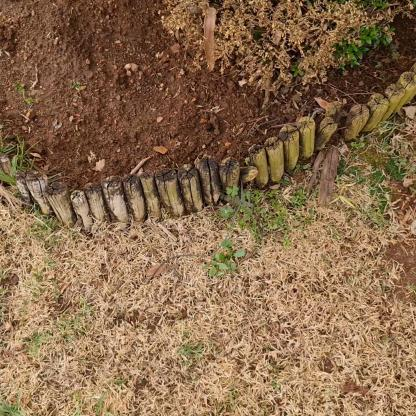Weeds: (204, 239, 246, 275), (218, 184, 255, 220)
